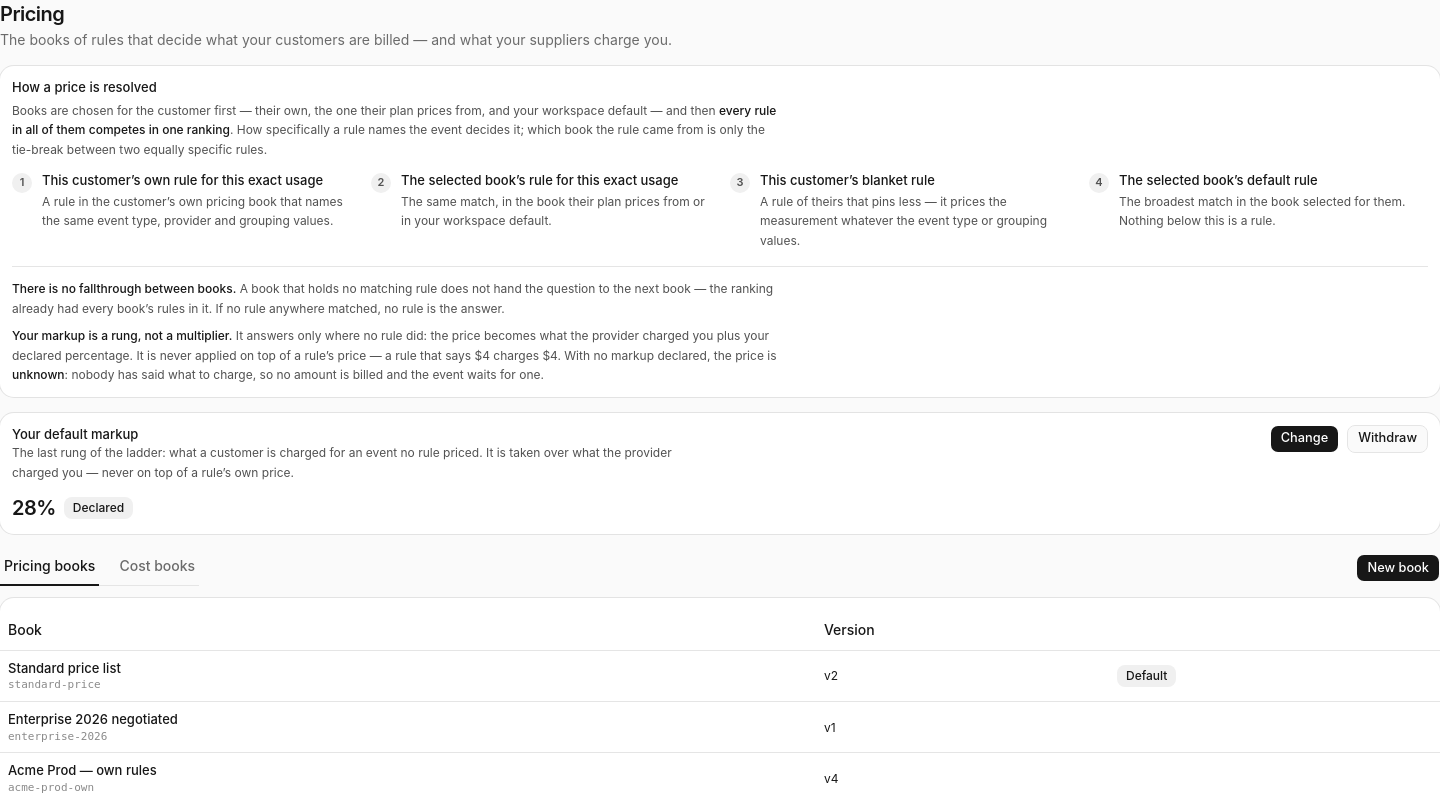
Test case: PricingPage › shows the cost books on their own tab, with the columns they have
Expected: the text "Standard price list" is shown, x1=8 y1=660 x2=121 y2=676
Expected: the text "Supplier" is not shown
What coordinates should you click on to do the following:
click the tab "Cost books"
I would click on:
 (157, 568)
Its box is x1=115 y1=550 x2=199 y2=586.
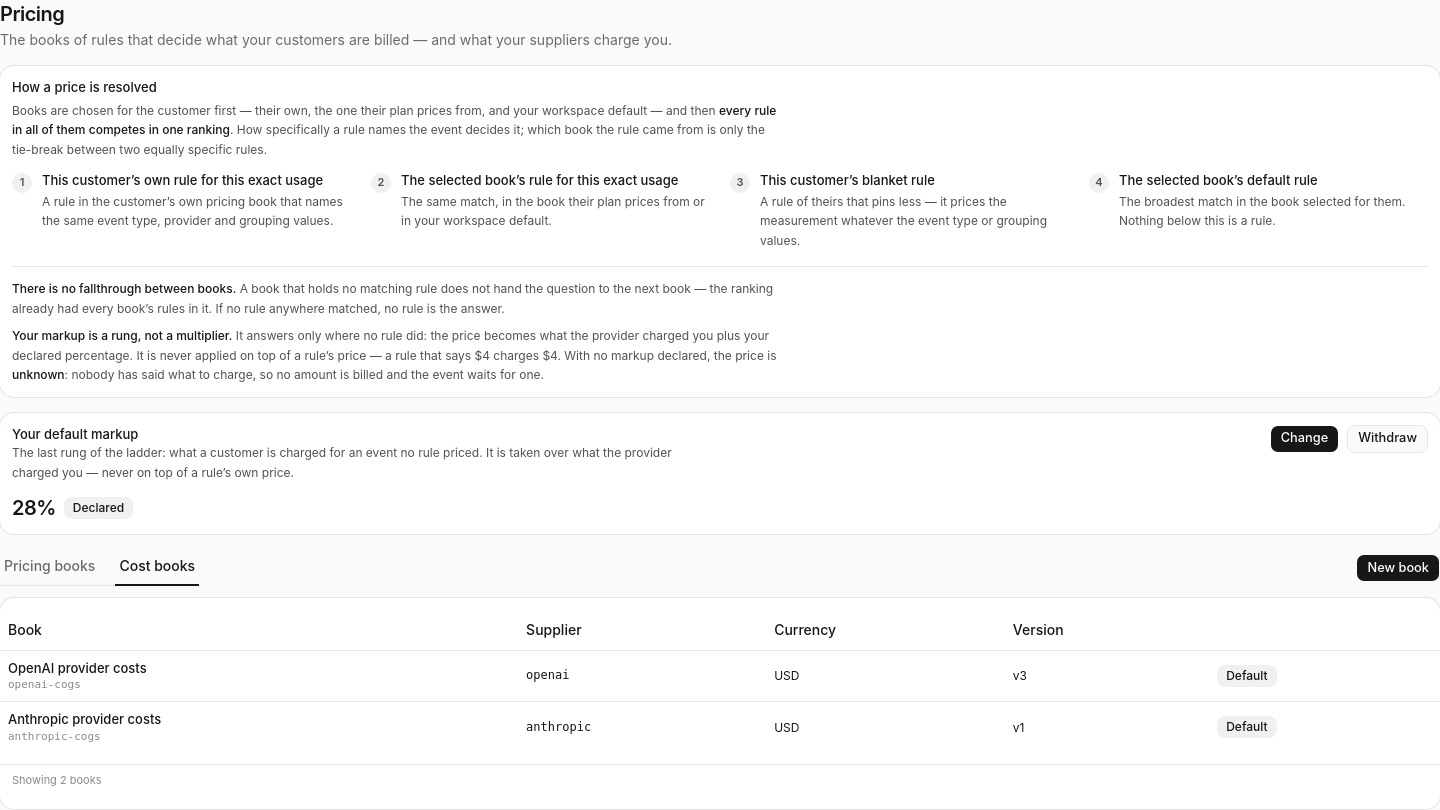
Now the text "OpenAI provider costs" is shown, box x1=8 y1=660 x2=147 y2=676
Now the text "Anthropic provider costs" is shown, box x1=8 y1=711 x2=161 y2=727
Now the column heading "Supplier" is shown, box x1=518 y1=610 x2=766 y2=650
